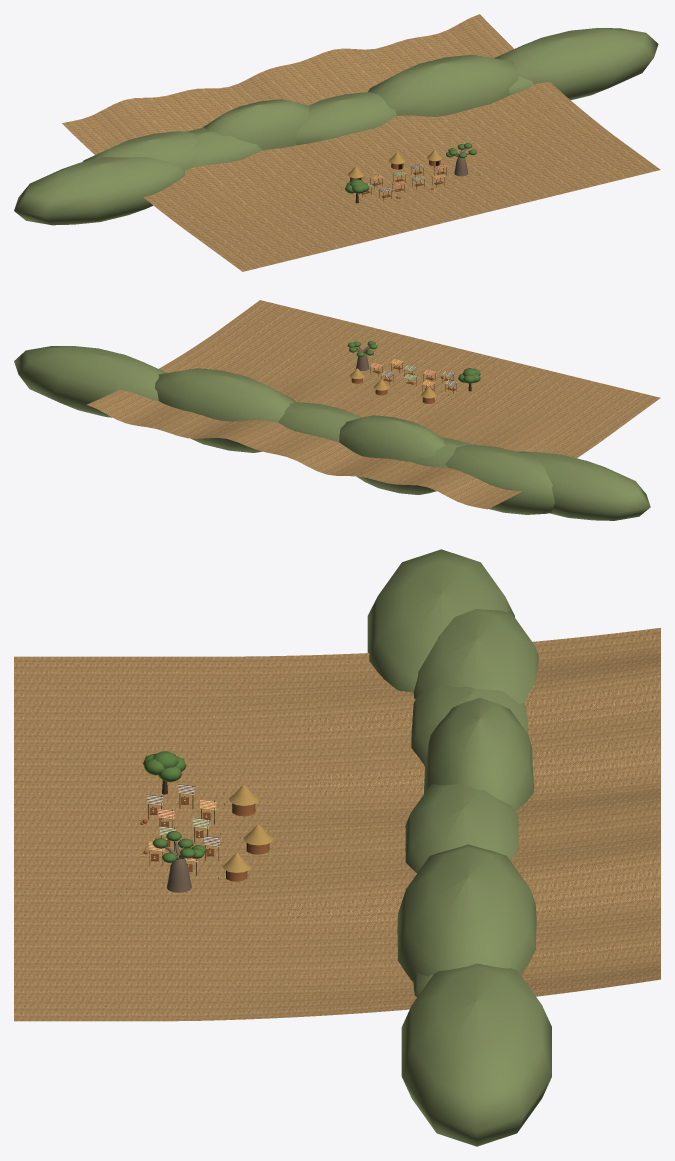
The model's file is marche.glb.
3 renders of one model, top to bottom at view 1: azimuth 30°, elevation 25°; view 2: azimuth 150°, elevation 25°; view 3: azimuth 270°, elevation 25°, orthographic. The views are drawn at different scales.
Parts seen in each view (by area): view 1: sol, decor; view 2: sol, decor; view 3: sol, decor.
Boxes of the visible parts, <box> form: sol: <box>62,14,660,271</box>; decor: <box>14,28,658,225</box>; sol: <box>87,300,660,509</box>; decor: <box>14,341,650,520</box>; sol: <box>14,627,660,1021</box>; decor: <box>100,549,551,1146</box>.
Bounding box in the file's own units: 188 × 19.8 × 90.
24 materials, 10 textured.
